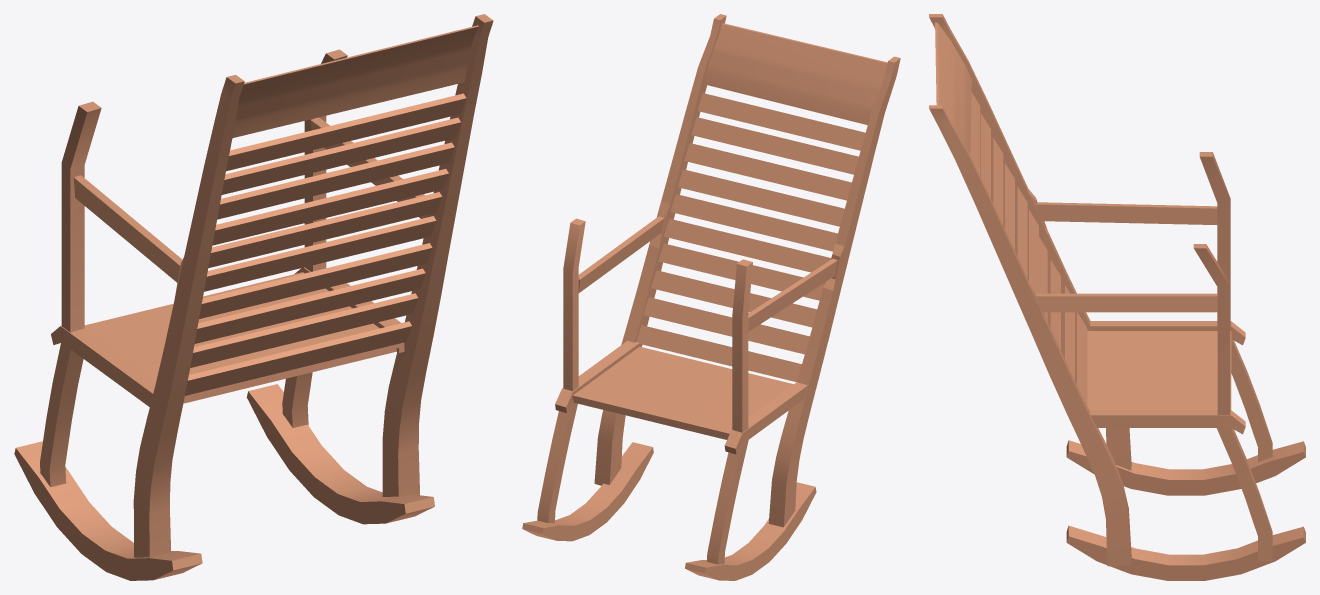
The model's file is RockingChair.fbx.
3 renders of one model, left to right at view 1: azimuth 30°, elevation 25°; view 2: azimuth 150°, elevation 25°; view 3: azimuth 270°, elevation 25°, orthographic. The views are drawn at different scales.
Parts seen in each view (by area): view 1: RockingChair; view 2: RockingChair; view 3: RockingChair.
Part boxes in pixels (left/top/right/bottom): RockingChair: left=14, top=14, right=493, bottom=580; RockingChair: left=522, top=14, right=900, bottom=580; RockingChair: left=929, top=14, right=1305, bottom=580.
Size of the model in its own units: 10.34 by 19.92 by 14.78.
